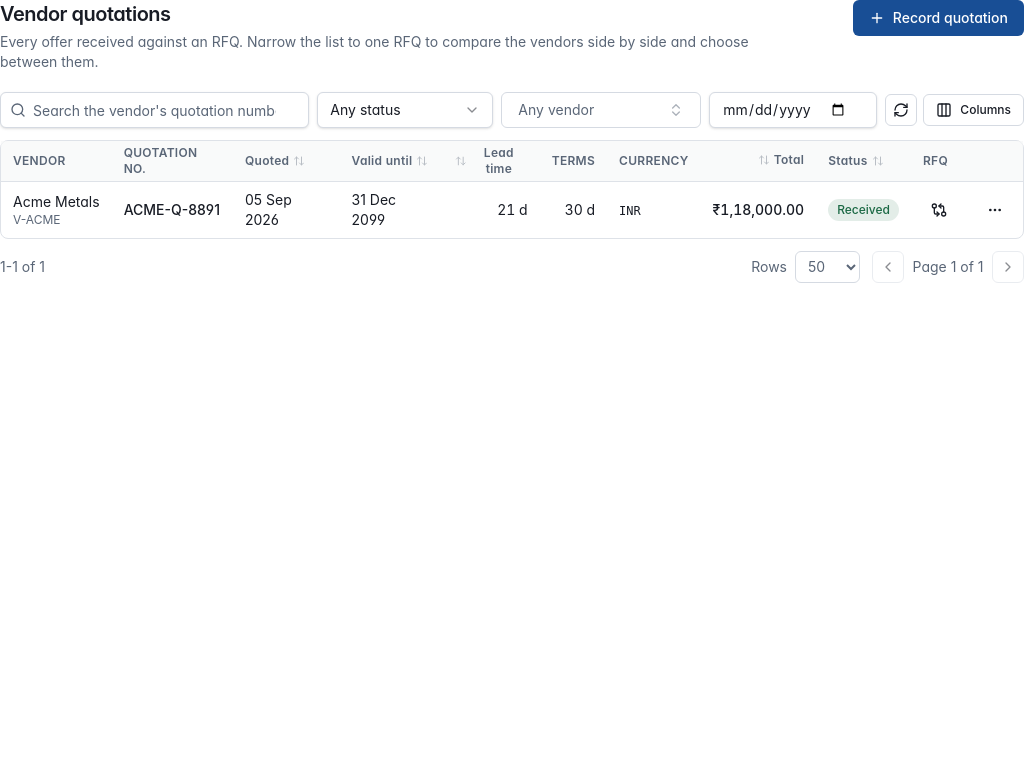
Test: who may decide › offers the buying decision once quotation.manage is held
The width and height of the screenshot is (1024, 768).
Expected: the button "Record quotation" is shown, left=853, top=0, right=1023, bottom=36
Click the button "ACME-Q-8891": click(172, 210) left=124, top=200, right=220, bottom=220
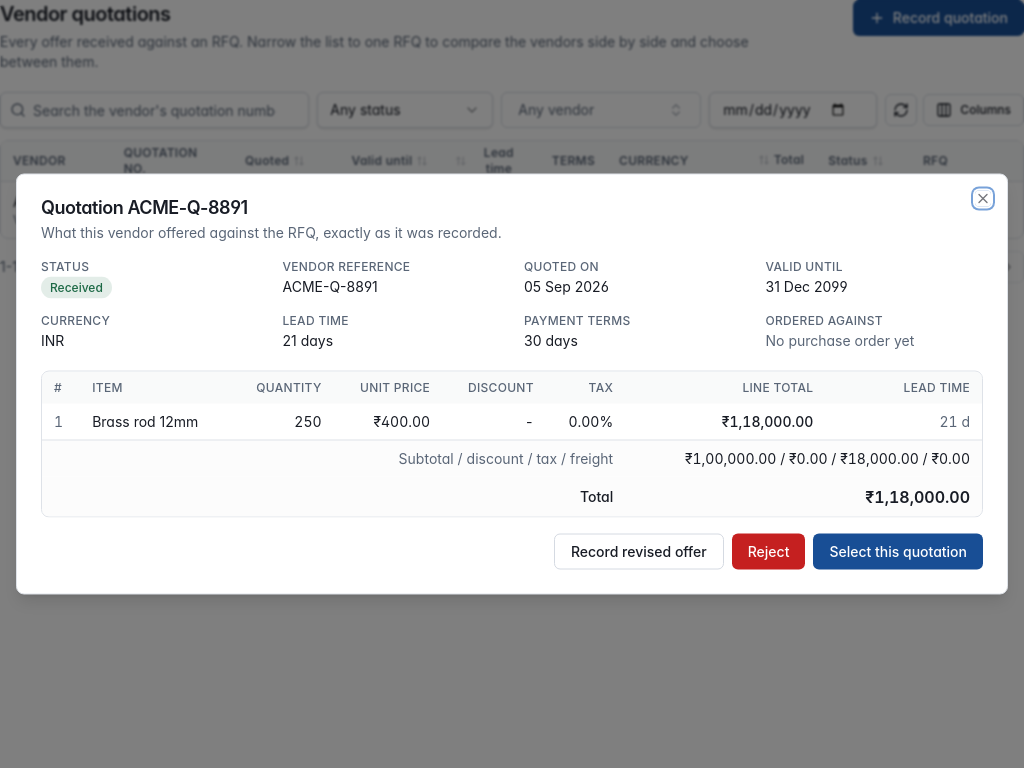
Expected: the dialog is shown, left=16, top=174, right=1008, bottom=594
Expected: the button "Select this quotation" is shown, left=813, top=534, right=983, bottom=570
Expected: the button "Reject" is shown, left=732, top=534, right=805, bottom=570
